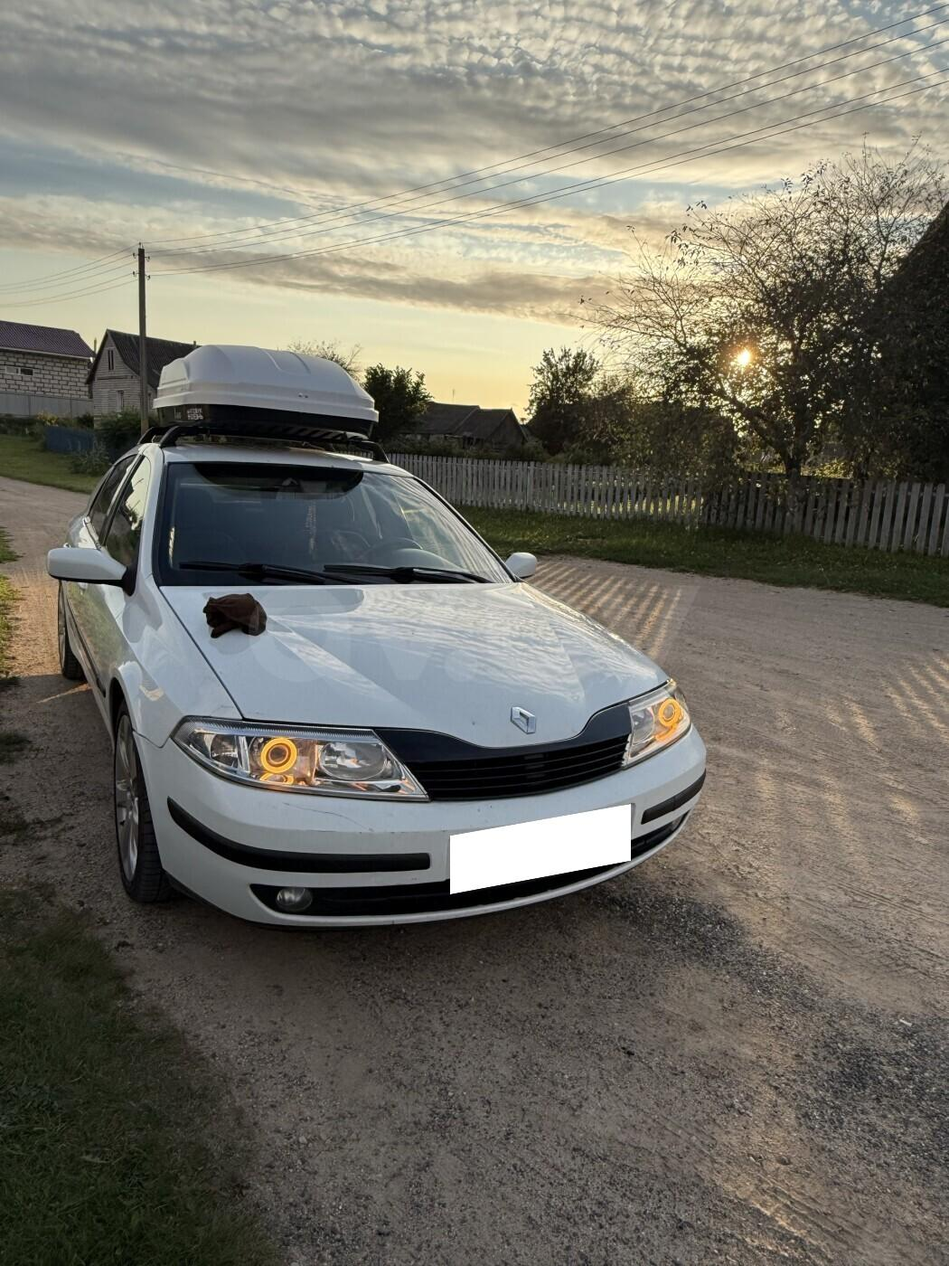Laguna_2001-2005: (46, 347, 705, 928)
